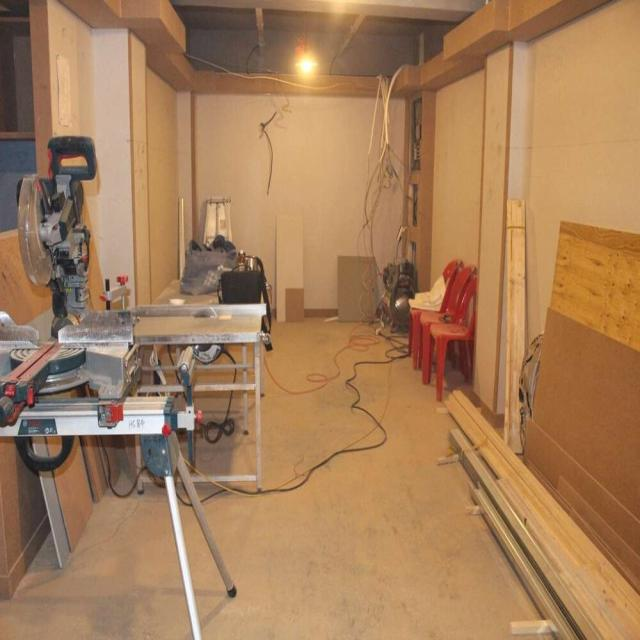board: (532, 307, 640, 521), (522, 419, 640, 559), (556, 475, 640, 581), (46, 436, 94, 552), (276, 215, 303, 322), (338, 256, 375, 322)
wood: (444, 390, 639, 640), (449, 429, 602, 640)
